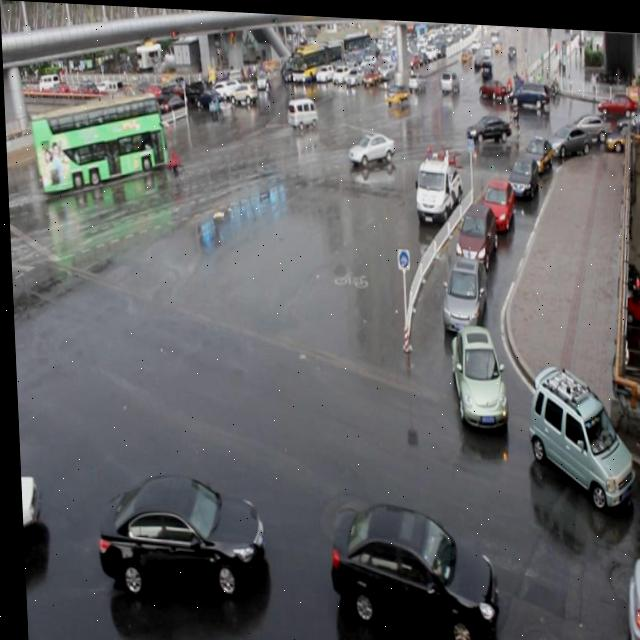bus: (409, 145, 462, 223)
car: (324, 494, 493, 640), (91, 468, 261, 592), (521, 350, 632, 501), (446, 318, 504, 424), (437, 249, 485, 329), (451, 194, 496, 263), (616, 544, 640, 640), (476, 170, 512, 226), (347, 124, 393, 164), (543, 116, 589, 155), (504, 147, 536, 196), (518, 128, 551, 170), (464, 109, 507, 141)
truck: (286, 93, 319, 126)
van: (30, 85, 166, 194)
